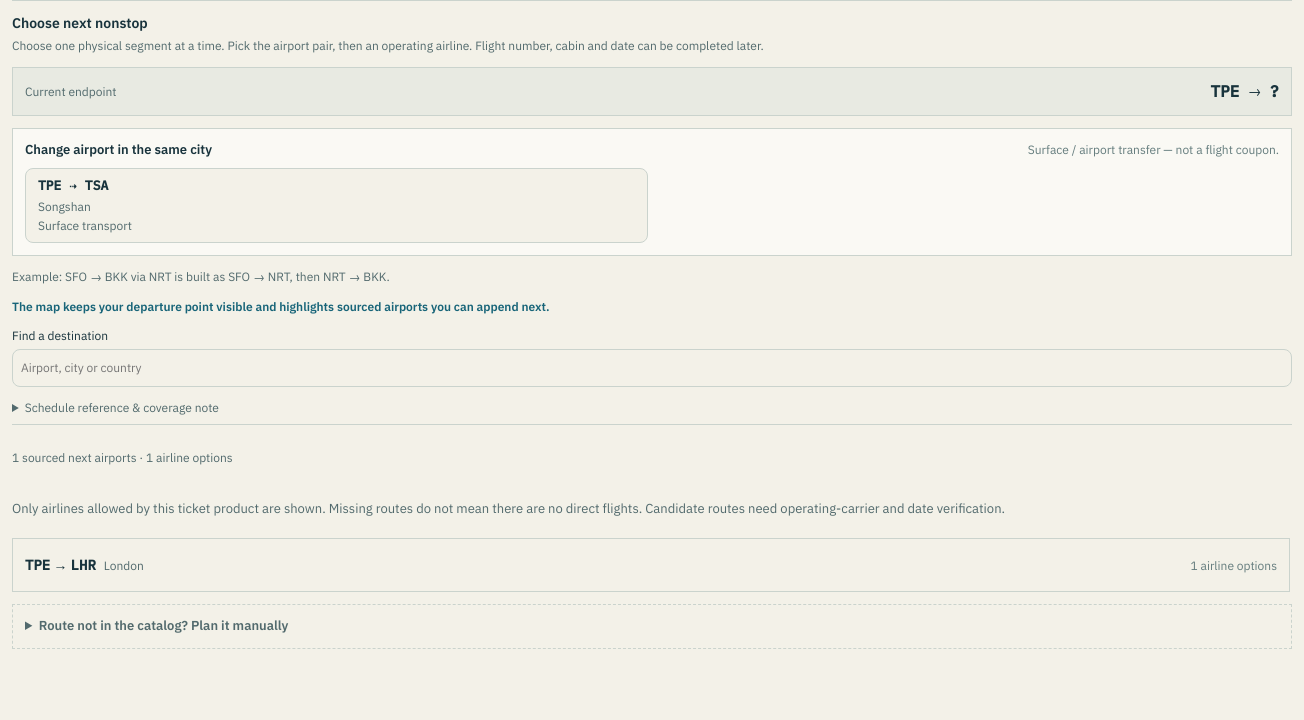
Scenario: DestinationsPanel · nonblocking next-leg workflow › network-only exact route is honest when no flight number is cataloged
This screenshot has width=1304, height=720.
What coordinates should you click on to do the following:
click the button "TPE → LHR London 1 airline options"
I would click on:
 (124, 565)
Its box is x1=13 y1=539 x2=1289 y2=591.
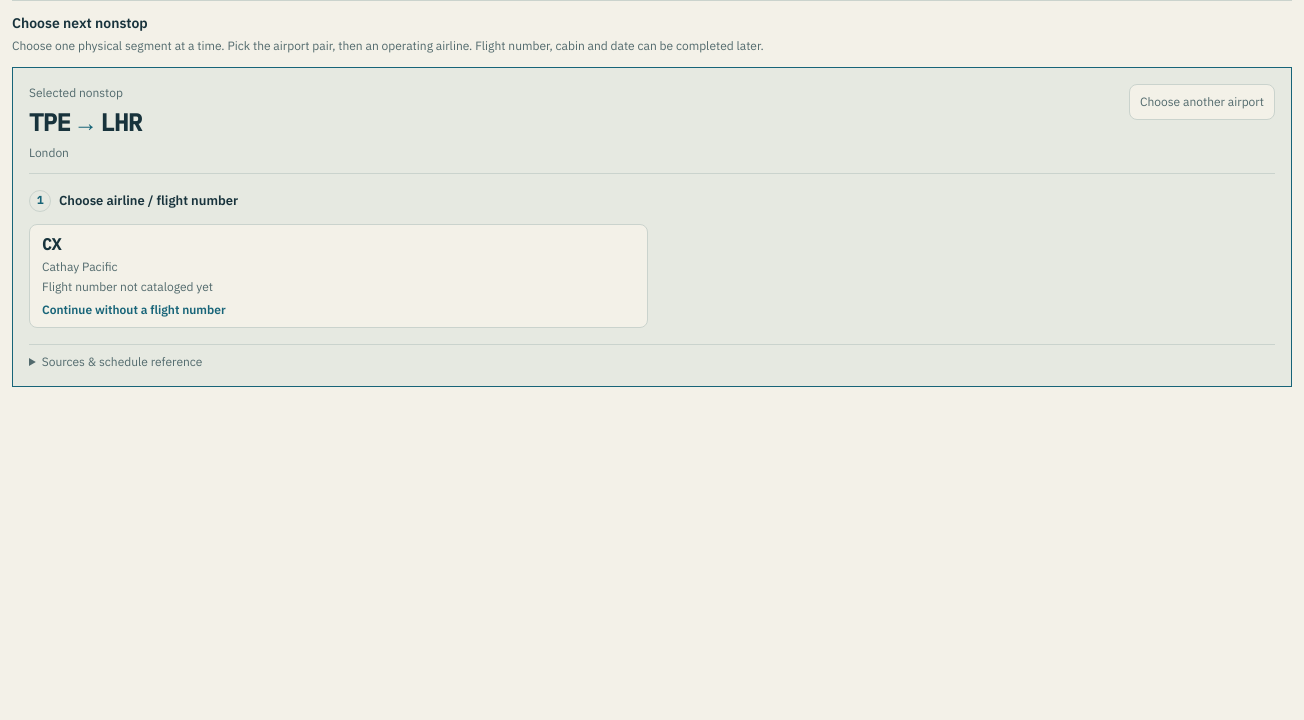
Expected: the text "Flight number not cataloged yet" is shown, x1=42 y1=279 x2=213 y2=294
Expected: the button that starts with "Cathay Pacific" is shown, x1=29 y1=224 x2=648 y2=328
